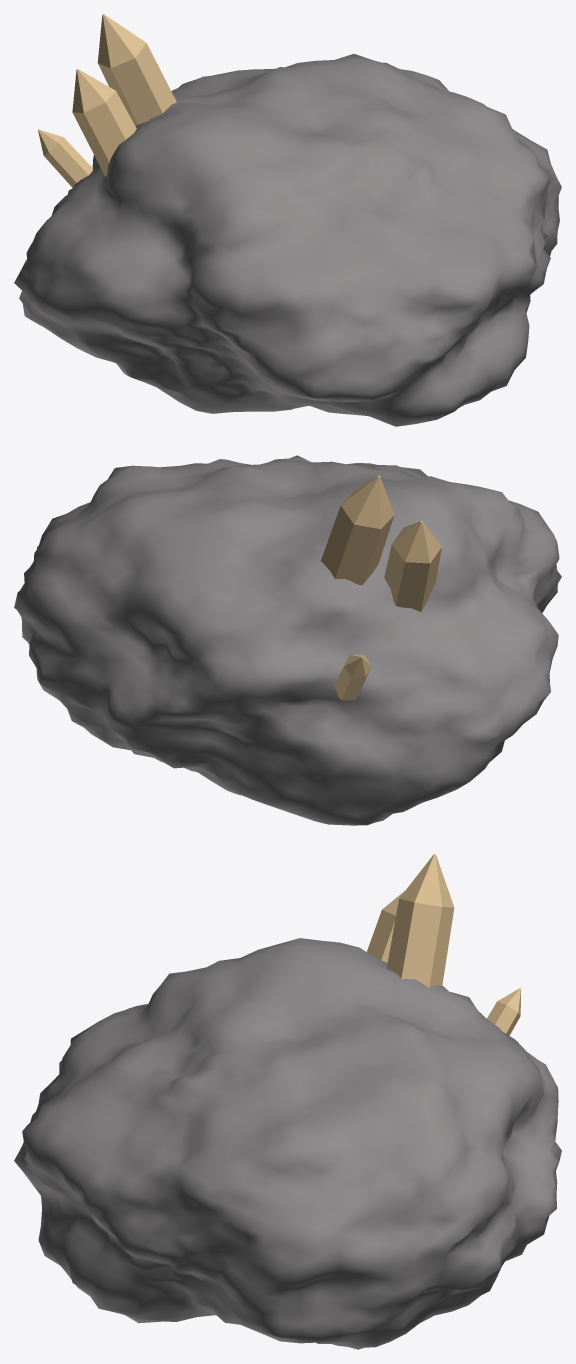
The model's file is scheelite_surface.glb.
3 renders of one model, top to bottom at view 1: azimuth 30°, elevation 25°; view 2: azimuth 150°, elevation 25°; view 3: azimuth 270°, elevation 25°, orthographic. The views are drawn at different scales.
Parts seen in each view (by area): view 1: scheelite_surface; view 2: scheelite_surface; view 3: scheelite_surface.
Part boxes in pixels (box(x1,y1,x2,y2)): scheelite_surface: box(14, 14, 561, 426); scheelite_surface: box(14, 455, 561, 825); scheelite_surface: box(14, 854, 561, 1349).
Bounding box in the file's own units: 1.33 × 0.9092 × 1.21.
